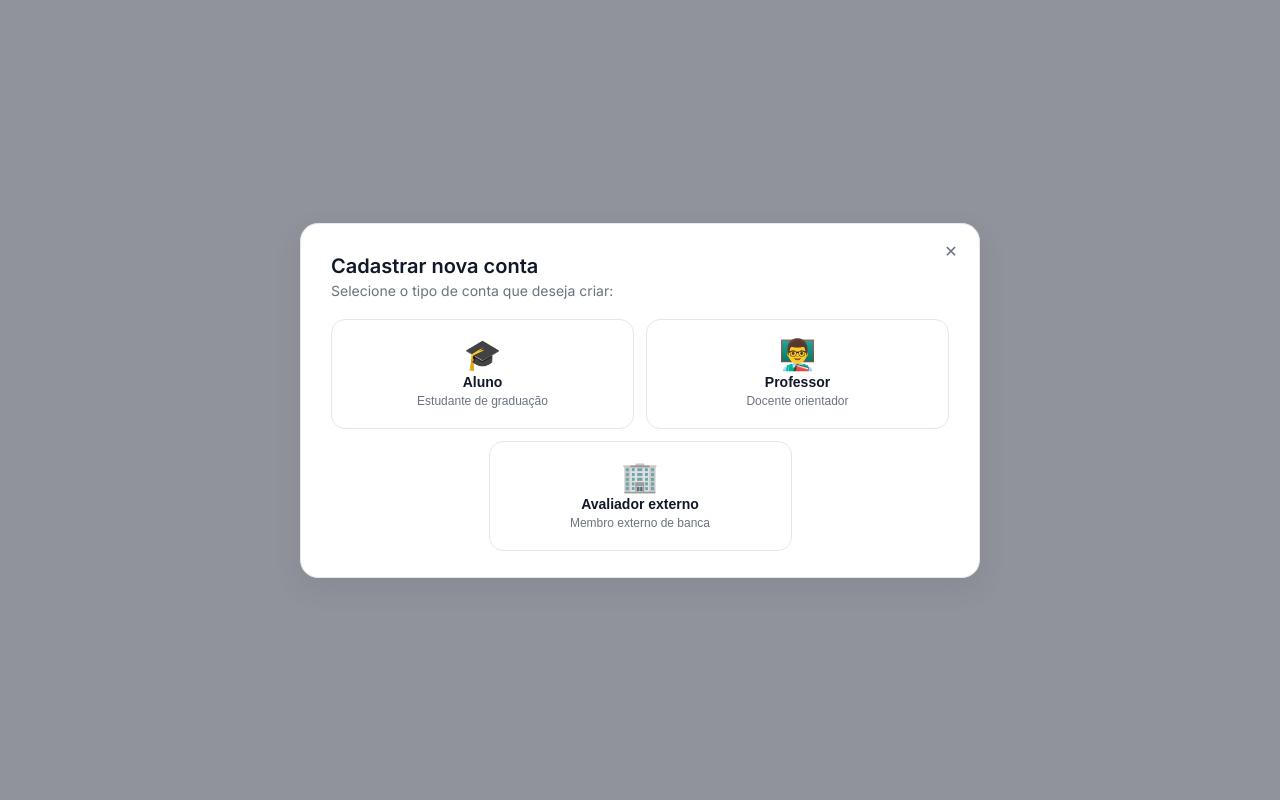
Test: Perfil COM código configurado › mostra o campo e continua exigindo o código
Click the text "Professor".
click(798, 382)  # box x1=765 y1=374 x2=830 y2=390
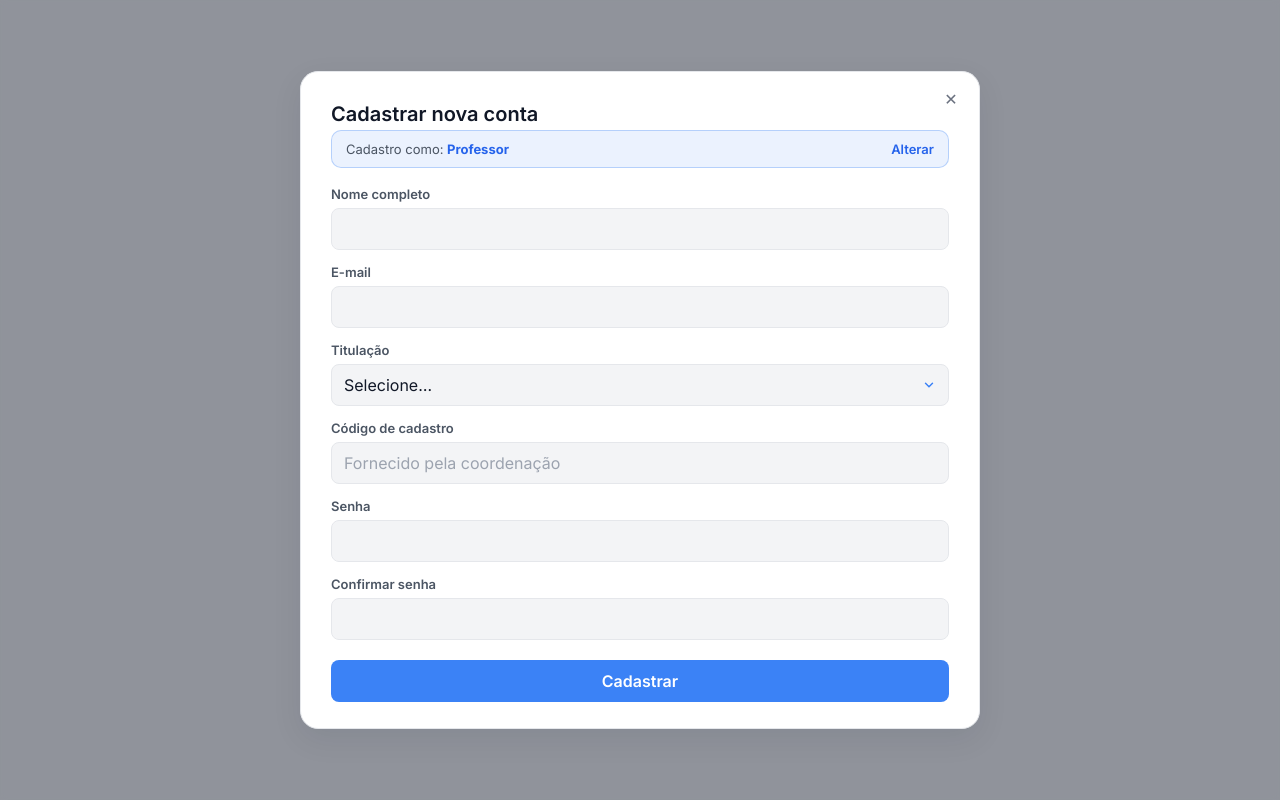
Expected: the field labelled "Código de cadastro" is shown, x1=331 y1=442 x2=949 y2=484
Type "Prof Um" into the field labelled "Nome completo".
click(640, 229); type("Prof Um")  # box x1=331 y1=208 x2=949 y2=250
Type "prof@exemplo.com" into the field labelled "E-mail".
click(640, 307); type("prof@exemplo.com")  # box x1=331 y1=286 x2=949 y2=328
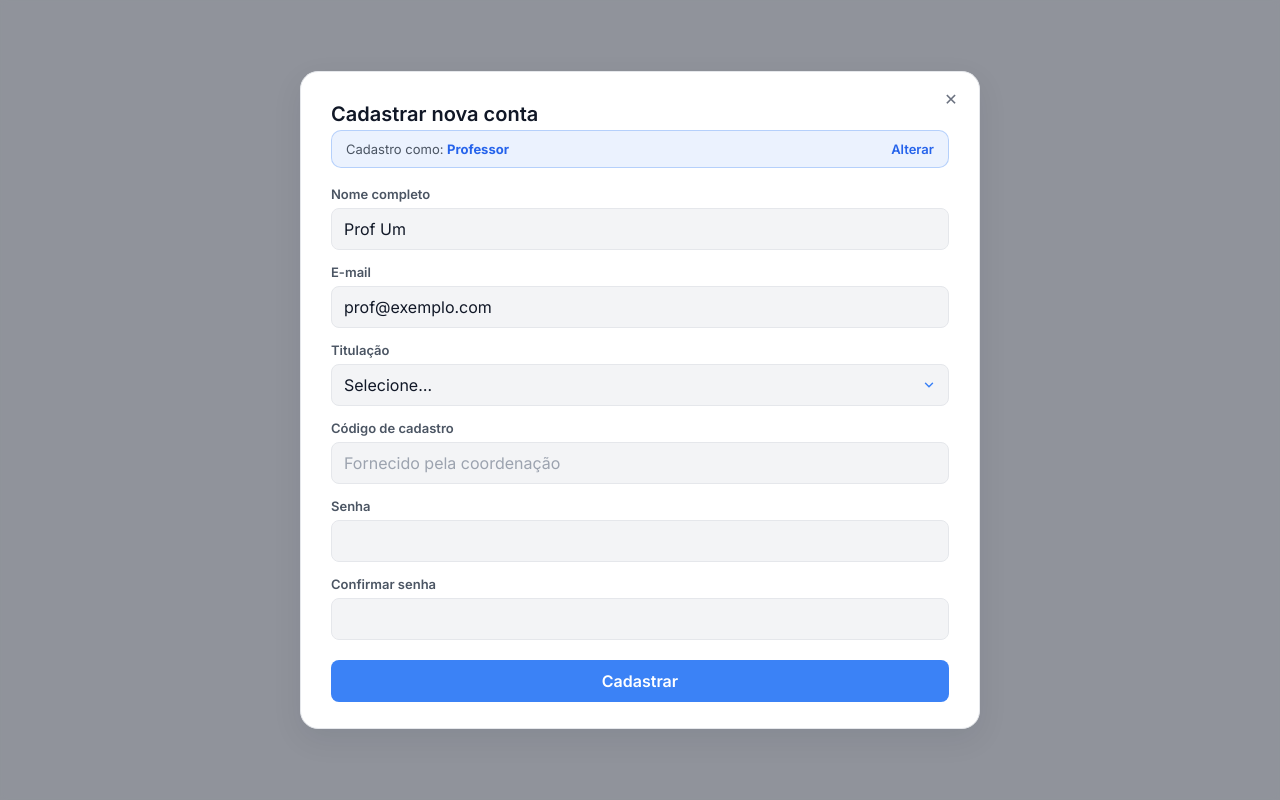
Select "Dr." in the dropdown labelled "Titulação" at (640, 385), box x1=331 y1=364 x2=949 y2=406
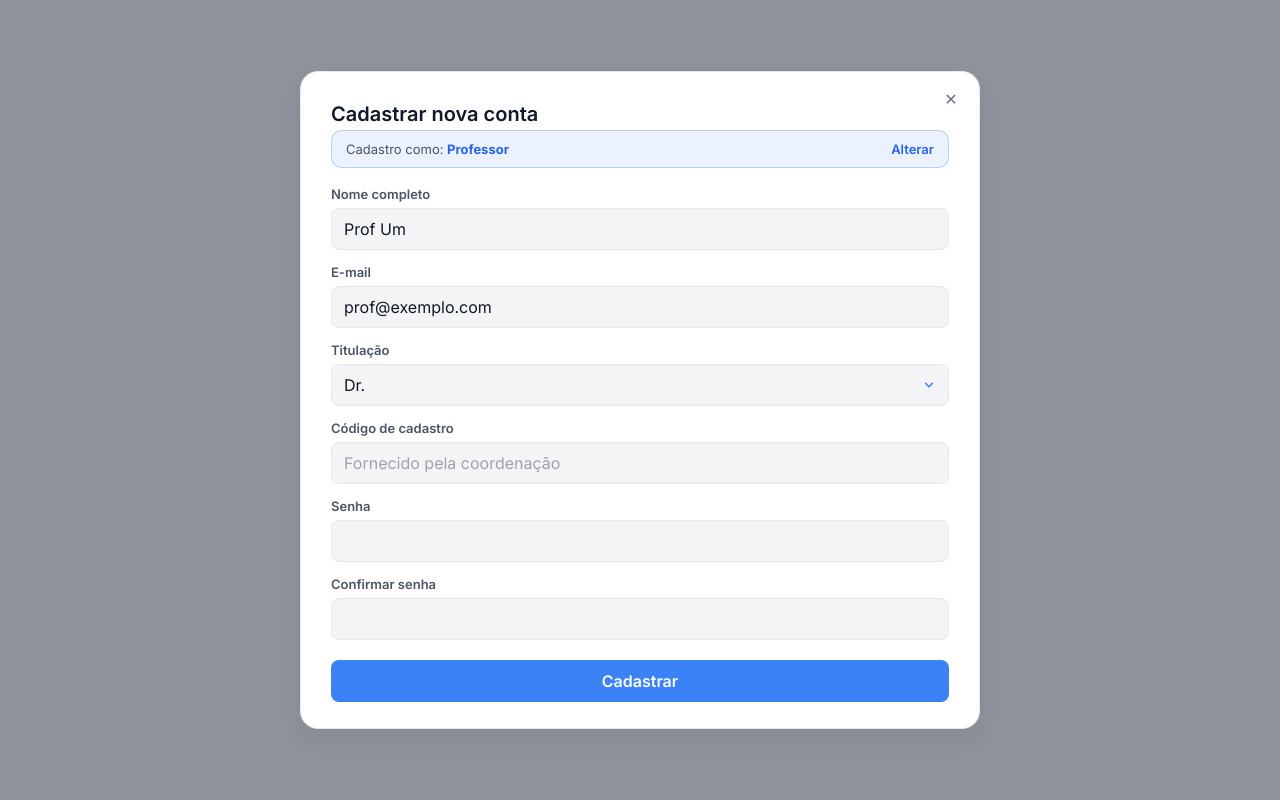
Type "senha123" into the password field labelled "Senha".
click(640, 541); type("senha123")  # box x1=331 y1=520 x2=949 y2=562
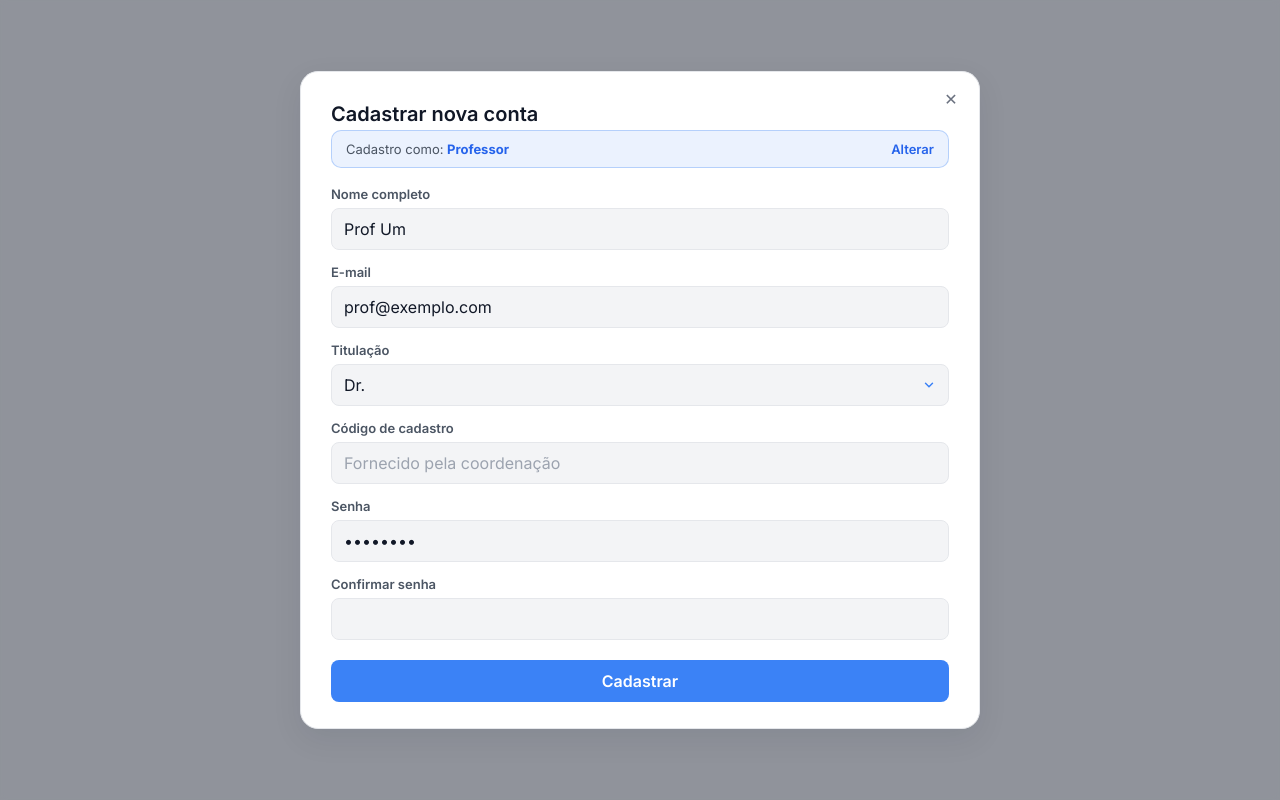
Type "senha123" into the password field labelled "Confirmar senha".
click(640, 619); type("senha123")  # box x1=331 y1=598 x2=949 y2=640
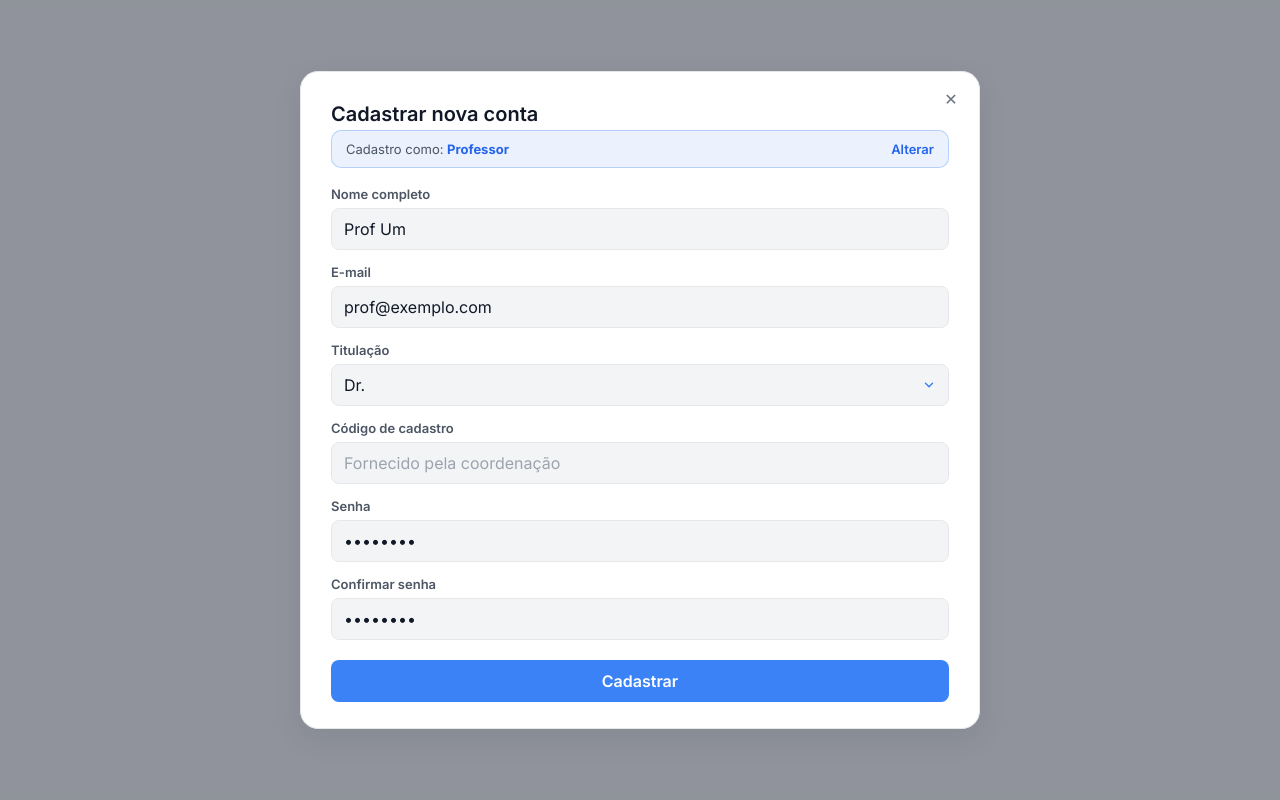
Click the button "Cadastrar".
click(640, 681)  # box x1=331 y1=660 x2=949 y2=702
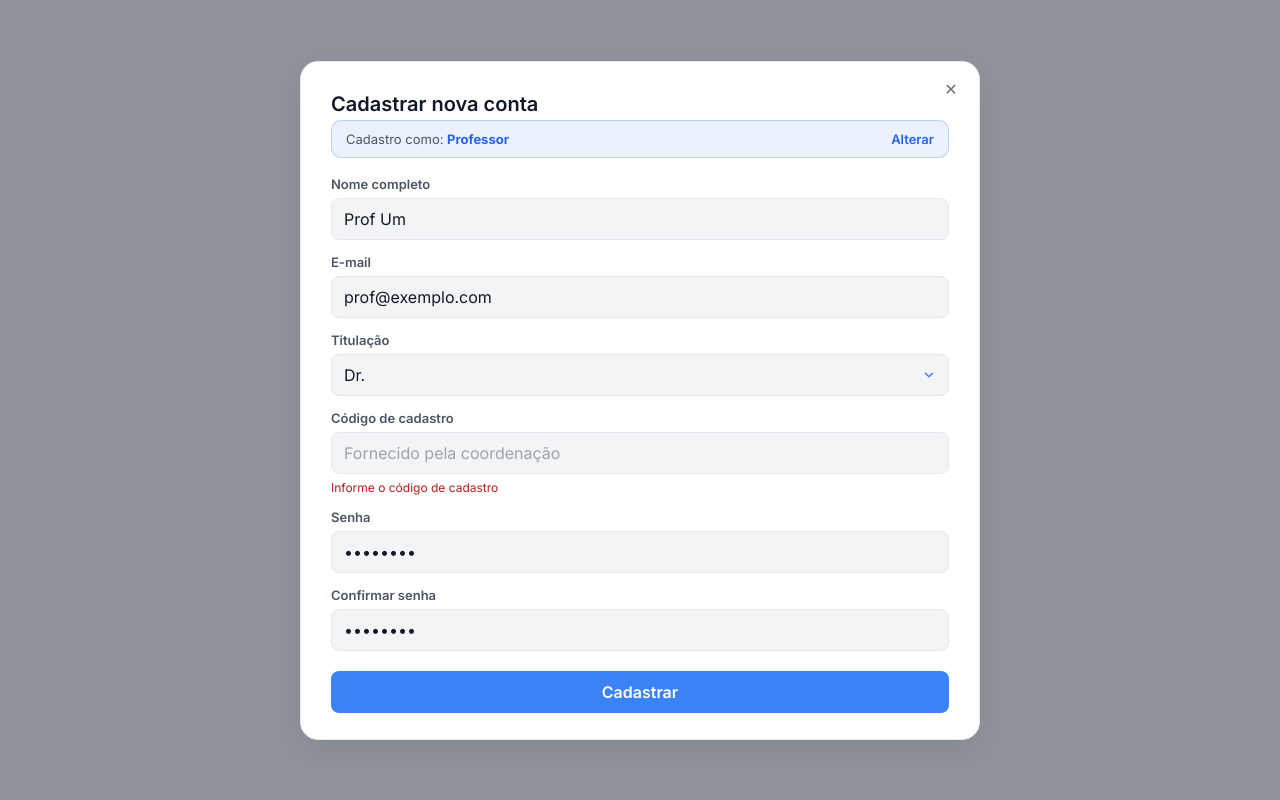
Expected: the text "Informe o código de cadastro" is shown, x1=331 y1=480 x2=498 y2=494
